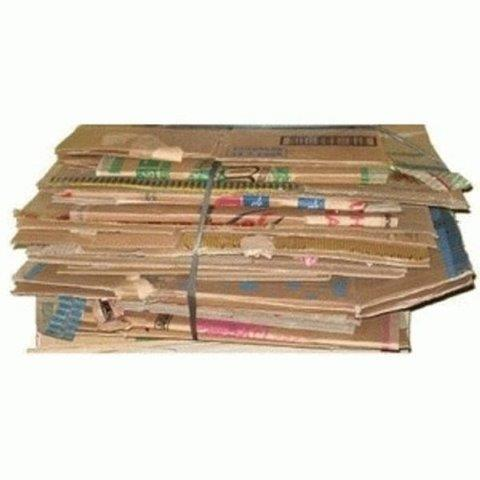kardus: (24, 127, 460, 348)
